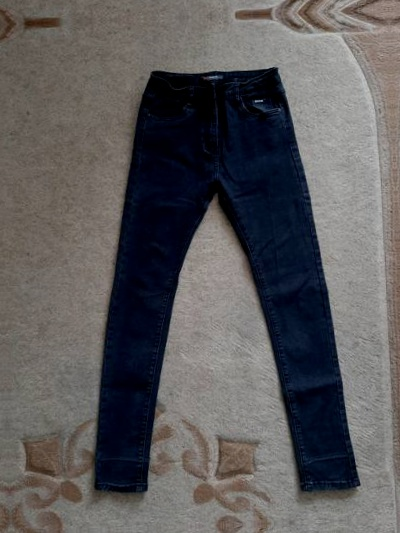Pants: (51, 63, 365, 509)
